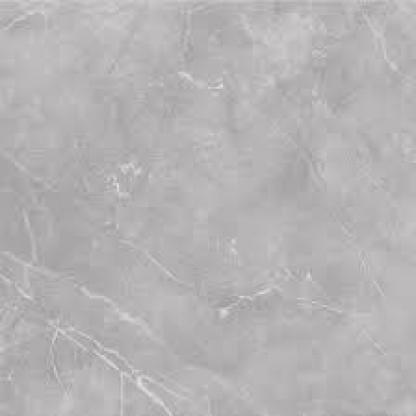Metamorphic_Marble: (2, 4, 414, 414)
